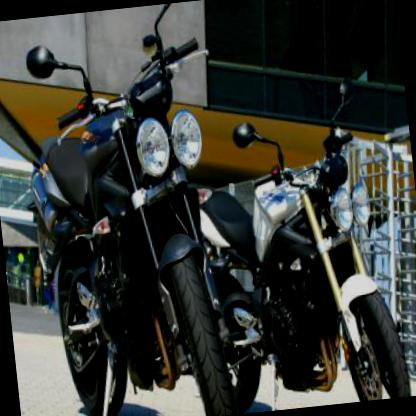motorcycle: (7, 0, 247, 415), (188, 74, 412, 414)
